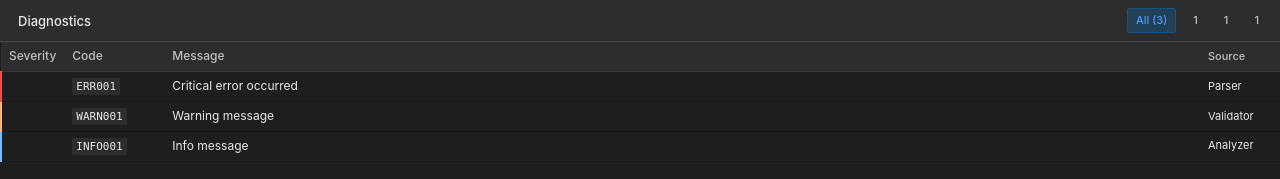
DiagnosticsPanel filtering › should filter to show only info
This screenshot has width=1280, height=179.
Click the 3rd button "1": [1255, 21] box [1241,8,1268,33]
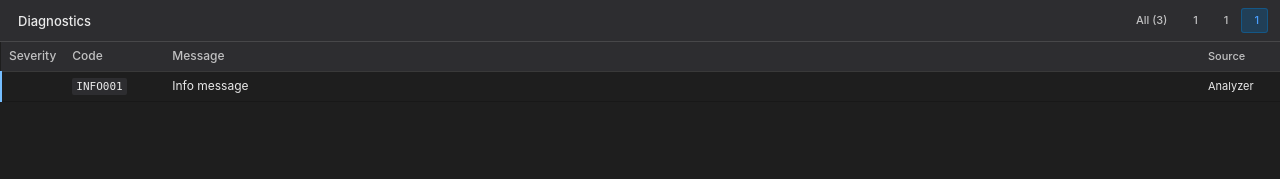
Expected: the text "Info message" is shown, [164,72,1200,102]
Expected: the text "Critical error occurred" is gone
Expected: the text "Warning message" is gone
